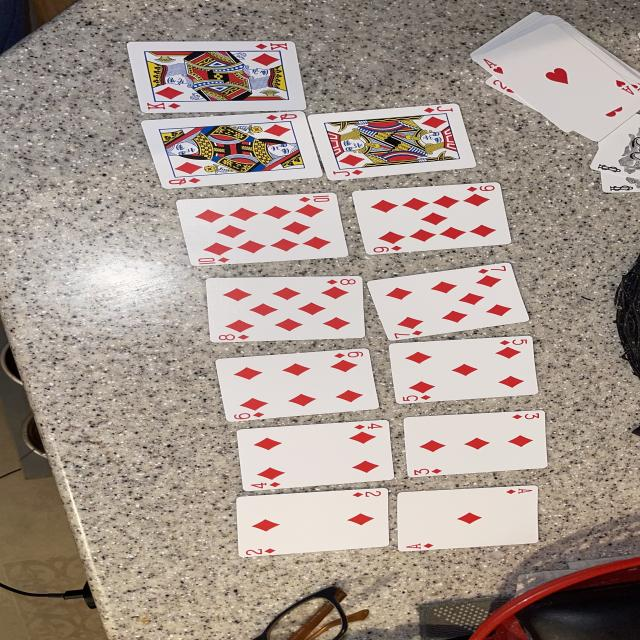10 of diamonds: (176, 192, 349, 265)
2 of diamonds: (236, 489, 389, 558)
3 of diamonds: (404, 410, 549, 478)
4 of diamonds: (236, 420, 393, 491)
5 of diamonds: (389, 336, 538, 404)
6 of diamonds: (216, 349, 378, 421)
7 of diamonds: (367, 262, 529, 340)
8 of diamonds: (207, 276, 364, 342)
9 of diamonds: (353, 182, 511, 255)
Ace of diamonds: (398, 486, 538, 551)
Ace of hearts: (472, 24, 640, 132)
Jack of diamonds: (309, 104, 476, 180)
Joker: (589, 114, 638, 180), (601, 172, 640, 194)
King of diamonds: (127, 41, 307, 112)
Queen of diamonds: (142, 111, 322, 189)
